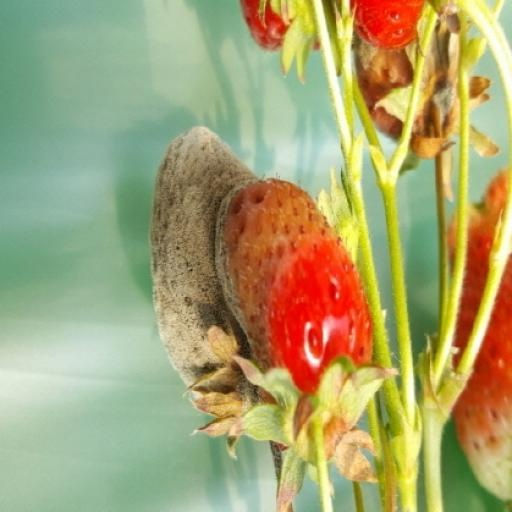Gray Mold: (238, 85, 365, 384), (138, 106, 298, 336)
